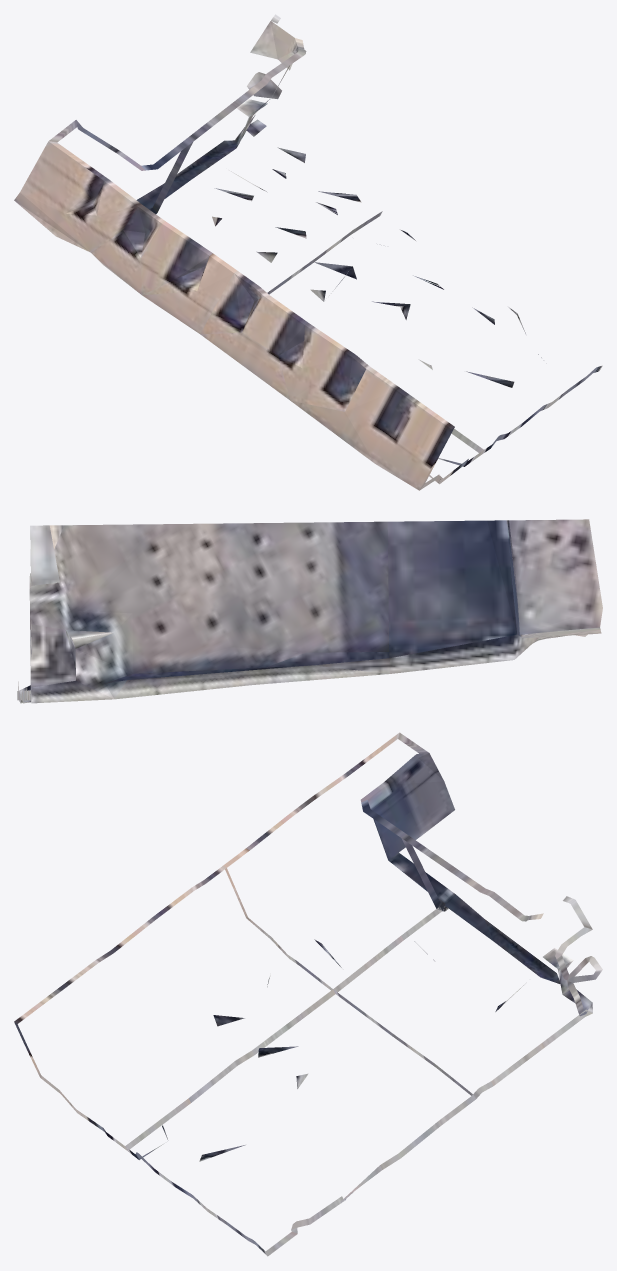
The picture shows the model from 3 angles, top to bottom: view 1: azimuth 30°, elevation 25°; view 2: azimuth 150°, elevation 25°; view 3: azimuth 270°, elevation 25°; orthographic projection. The views are drawn at different scales.
Size of the model in its own units: 38.91 by 21.89 by 39.89.
1 material, 1 textured.
